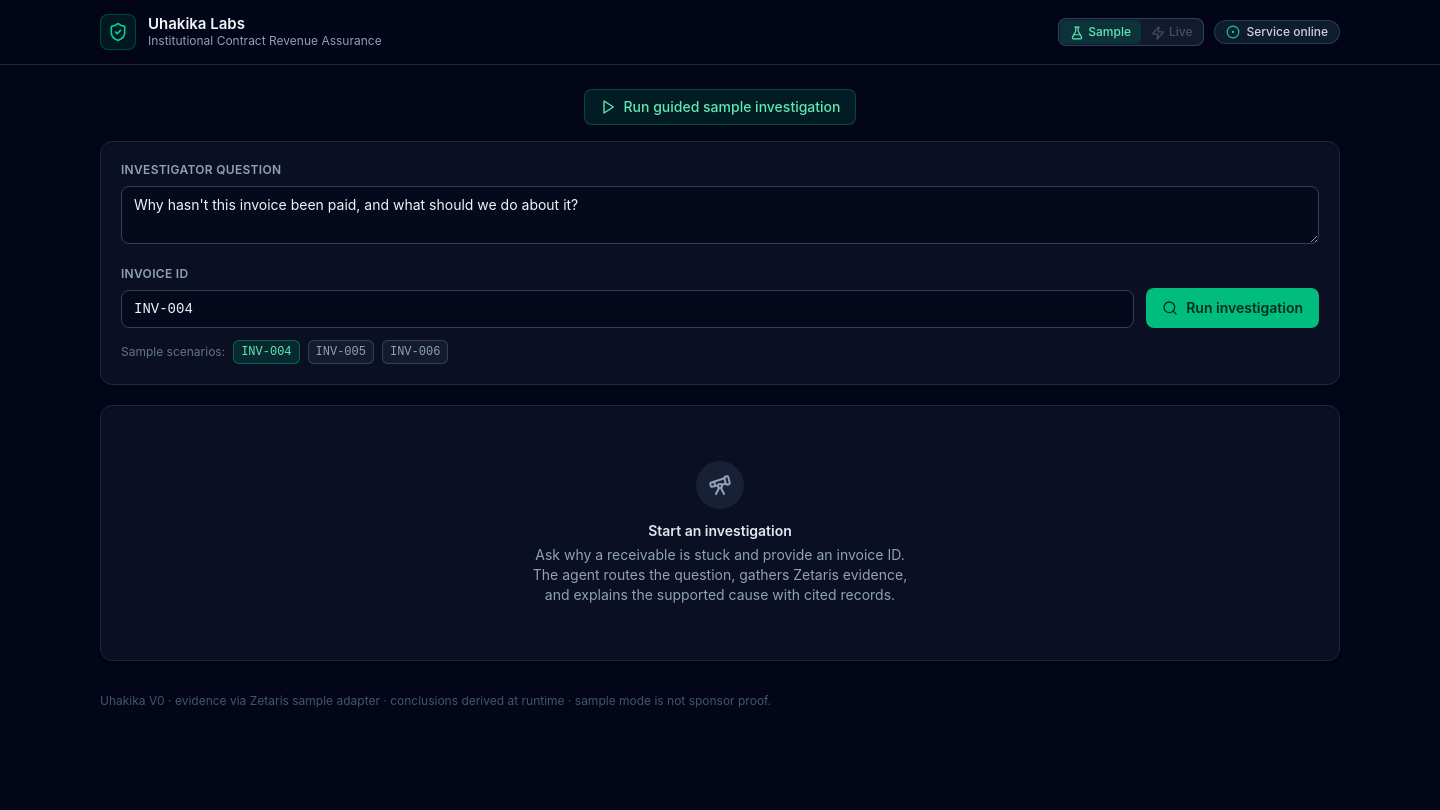
App — states › shows error state when API returns non-200
Click the button "Run guided sample investigation" at (720, 107), box [584,89,856,125]
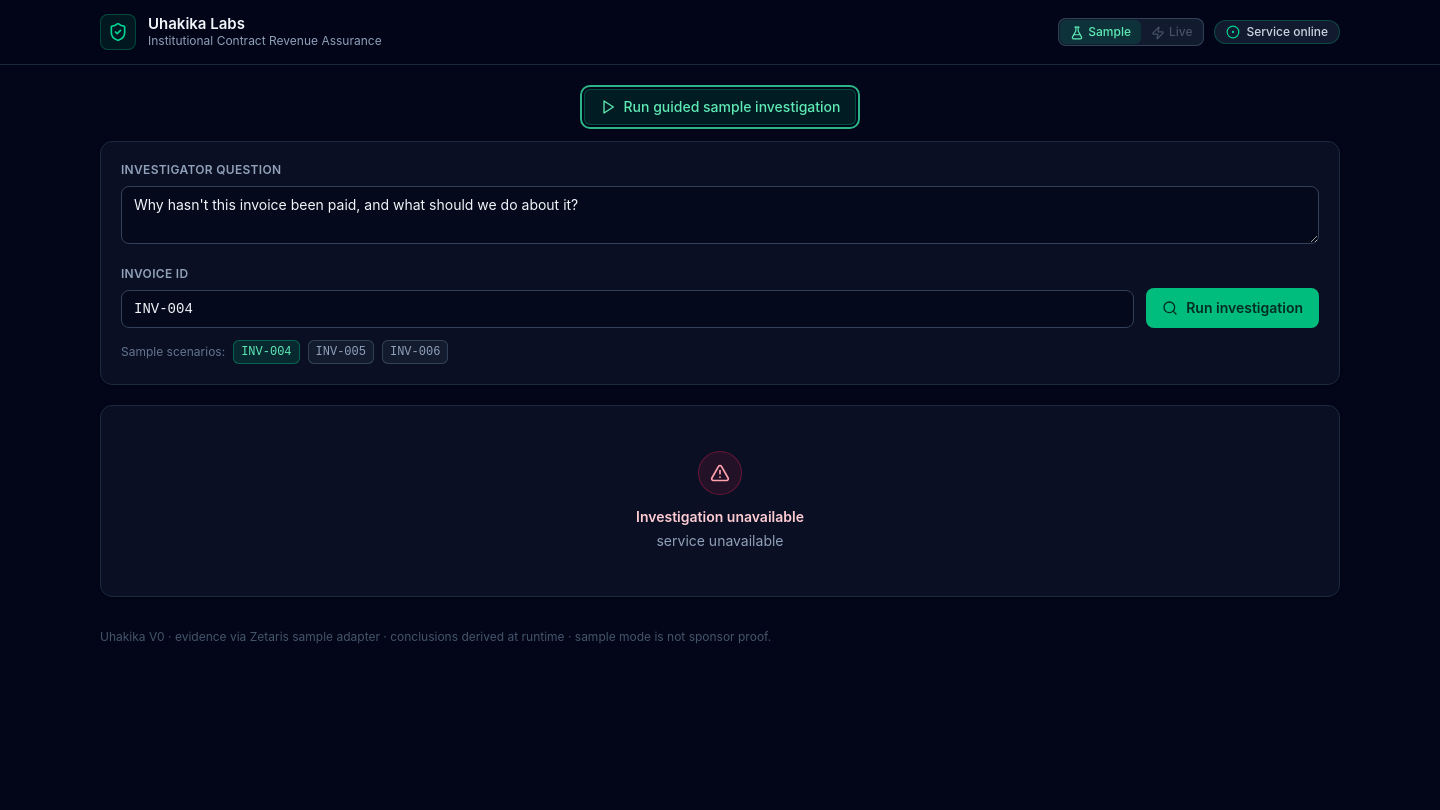
Check: the text "service unavailable" is shown, box [656,532,784,549]
